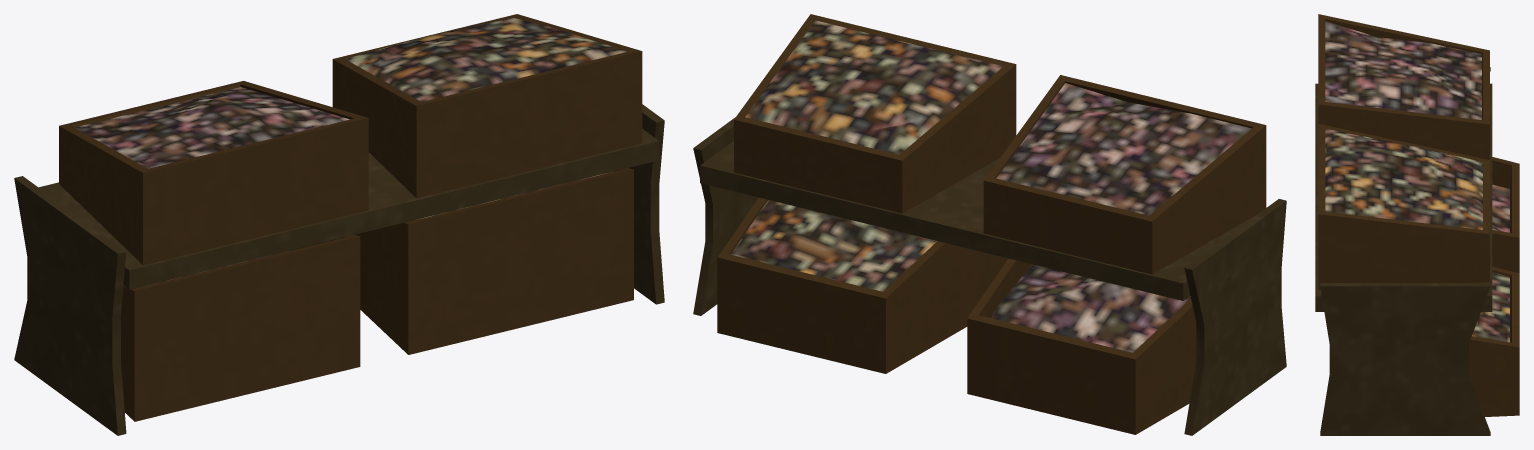
Rendered from L1_FoodCounter.fbx.
The picture shows the model from 3 angles, left to right: view 1: azimuth 30°, elevation 25°; view 2: azimuth 150°, elevation 25°; view 3: azimuth 270°, elevation 25°; orthographic projection. The views are drawn at different scales.
Parts seen in each view (by area): view 1: L1_FoodCounter; view 2: L1_FoodCounter; view 3: L1_FoodCounter.
Boxes of the visible parts, x1,y1,x2,y2 form: L1_FoodCounter: (14, 14, 664, 435); L1_FoodCounter: (693, 14, 1286, 435); L1_FoodCounter: (1315, 14, 1519, 435).
Bounding box in the file's own units: 266 × 121 × 105.
1 material, 1 textured.
